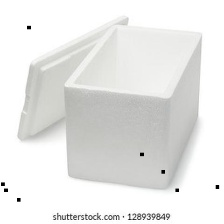foam_box: (11, 10, 207, 195)
